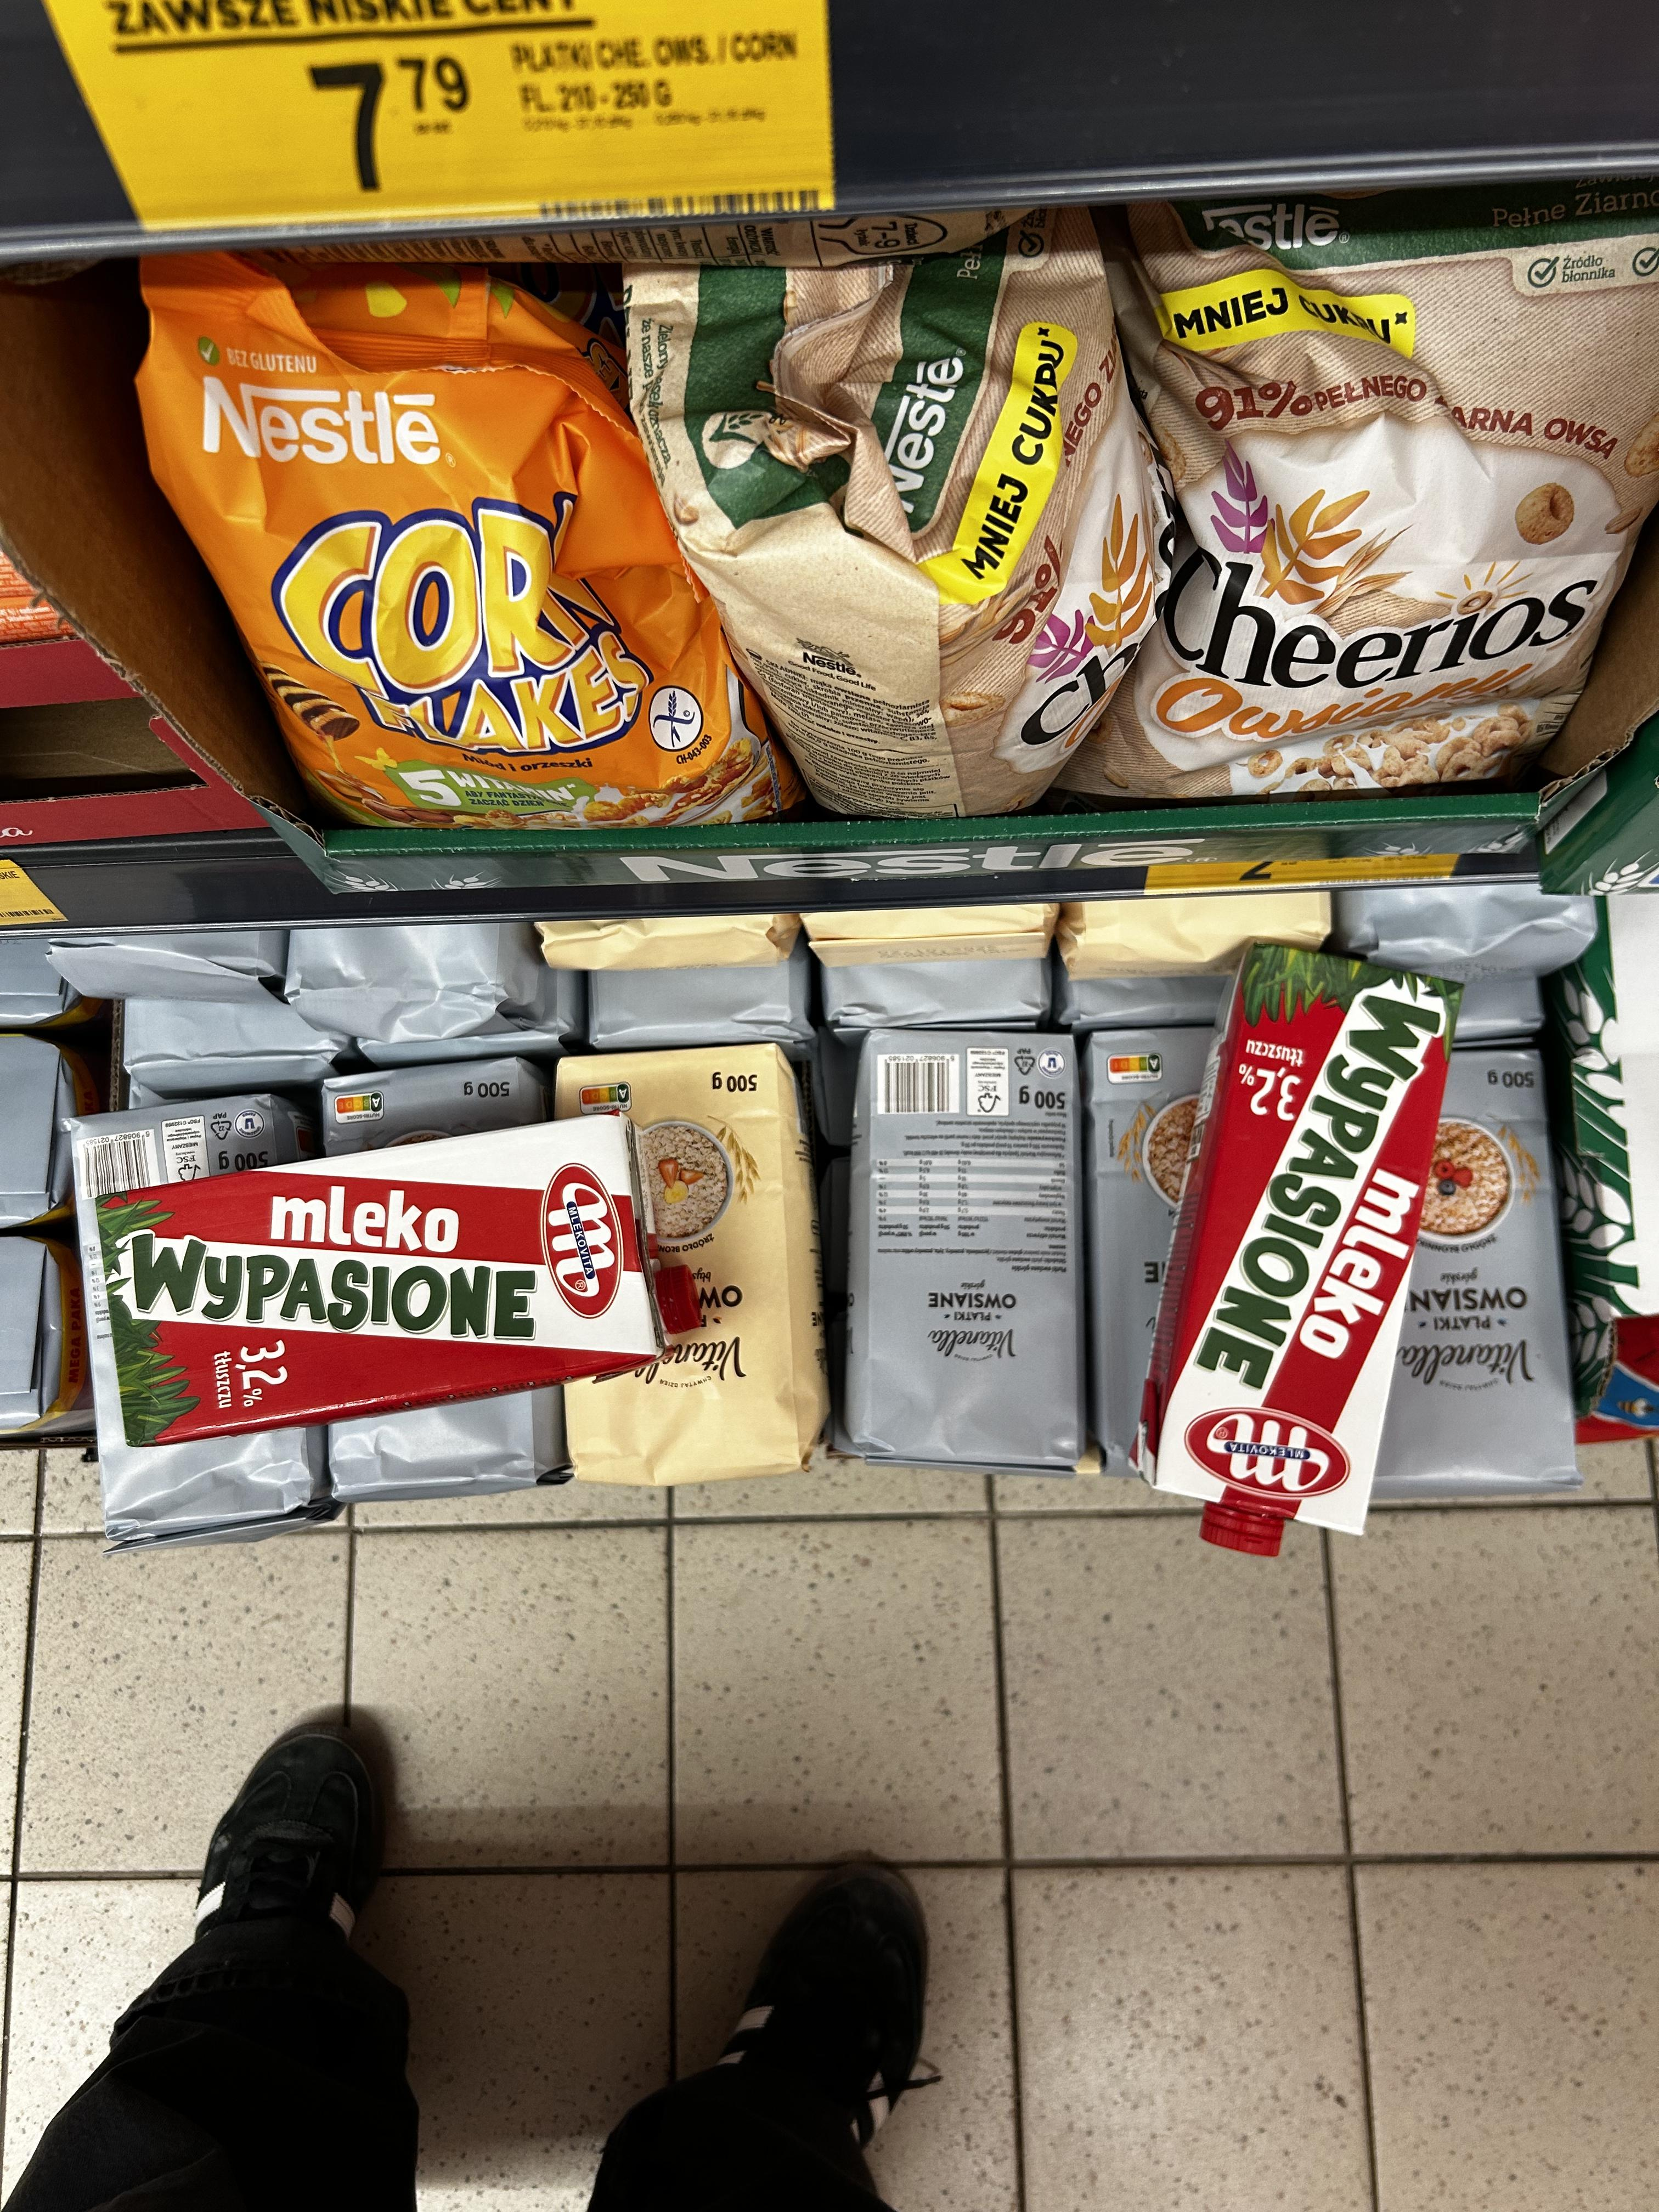Milk: (1133, 928, 1469, 1590), (70, 1092, 690, 1435)
